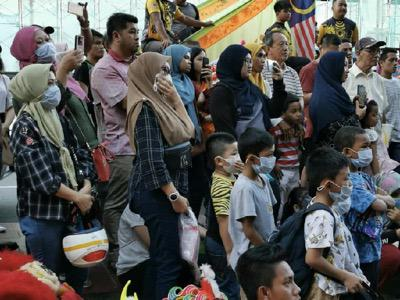mask_weared_incorrect: (329, 172, 353, 203)
with_mask: (41, 77, 61, 111), (351, 140, 374, 169), (35, 34, 56, 61), (257, 148, 276, 175), (225, 147, 242, 173), (159, 64, 171, 93)
without_mask: (269, 273, 303, 300), (121, 26, 139, 53), (363, 46, 382, 67), (286, 104, 303, 124), (273, 39, 289, 60), (254, 51, 267, 73), (90, 39, 104, 58), (241, 55, 253, 77), (384, 56, 398, 74), (368, 109, 381, 127), (194, 54, 207, 71), (341, 46, 354, 62), (341, 60, 350, 82), (181, 54, 192, 72), (280, 7, 292, 22), (278, 10, 292, 22)
